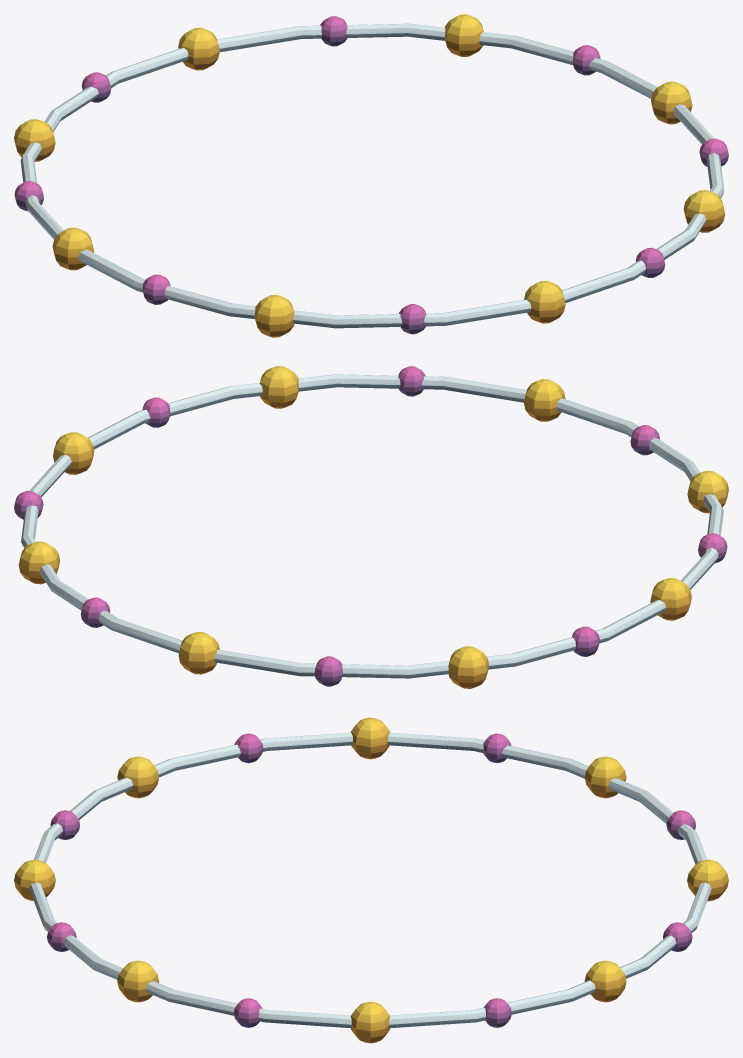
The model's file is KIND-ballring.fbx.
3 views of the same model, one above another, from view 1: azimuth 30°, elevation 25°; view 2: azimuth 150°, elevation 25°; view 3: azimuth 270°, elevation 25° (orthographic). The views are drawn at different scales.
Parts seen in each view (by area): view 1: polySurface33; view 2: polySurface33; view 3: polySurface33.
Part boxes in pixels (box(x1,y1,x2,y2)): polySurface33: box(14, 14, 728, 337); polySurface33: box(14, 366, 728, 688); polySurface33: box(14, 717, 728, 1043).
Size of the model in its own units: 5.75 by 0.3379 by 5.76.
Materials: 1 (1 with a texture image).
